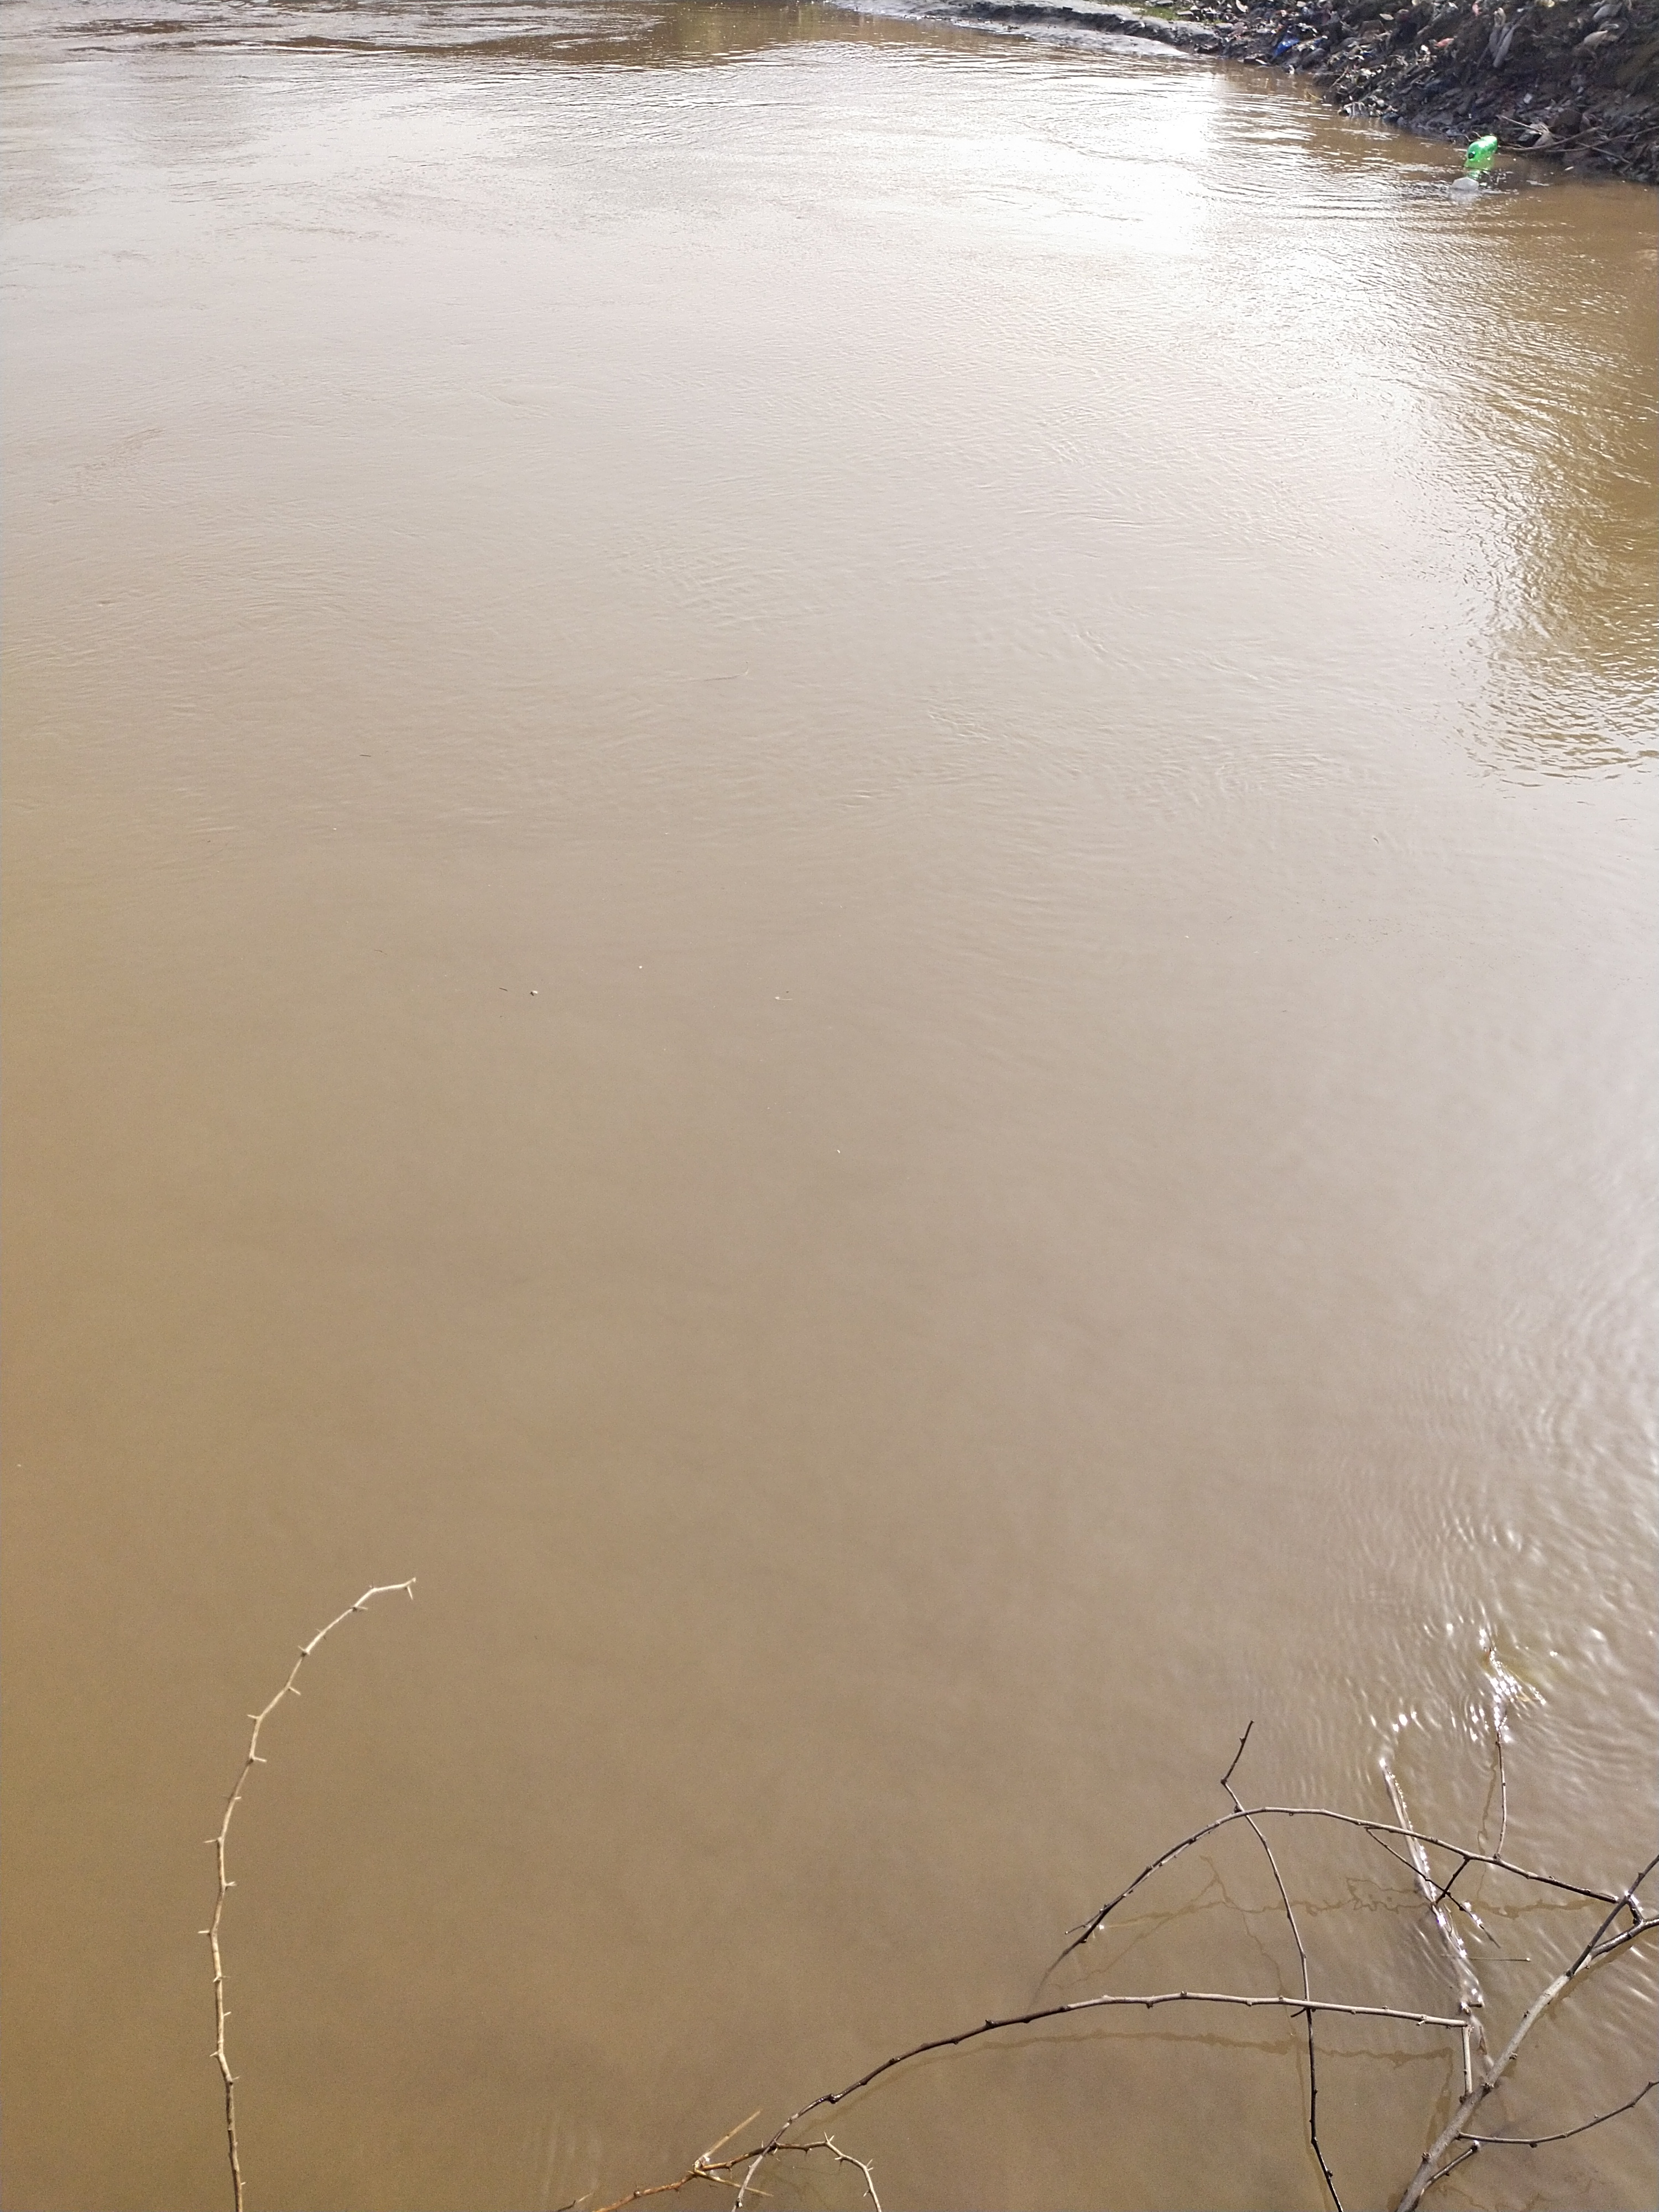Plastic Bottle: (1466, 134, 1497, 160)
